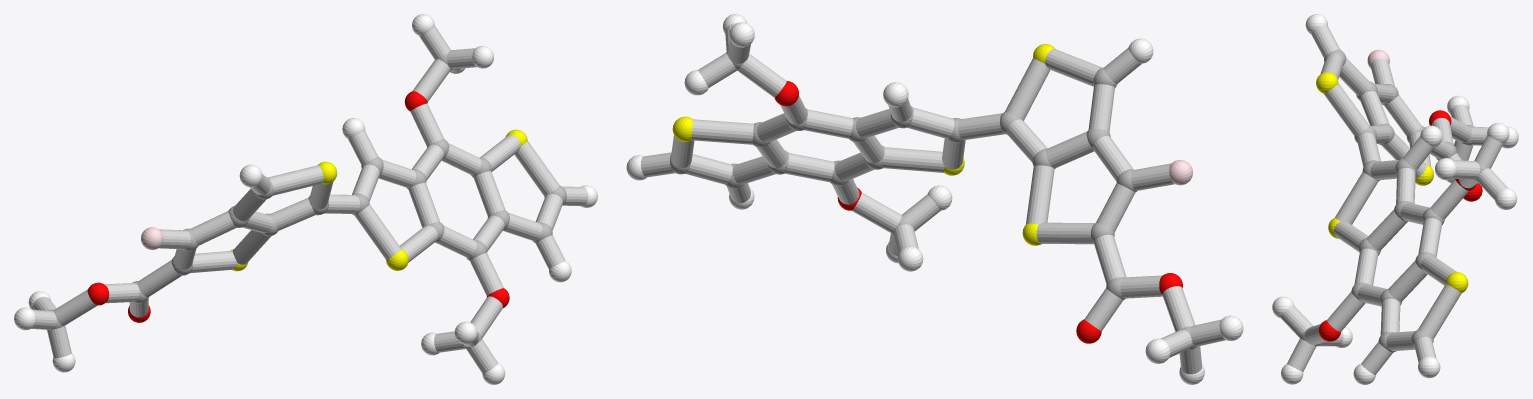
File: Dimethoxy_Benzodithiophene_Phi_0_Theta_280_Methylcarbonyl_3_Fluoro_Thienothiophene.glb
3 renders of one model, left to right at view 1: azimuth 30°, elevation 25°; view 2: azimuth 150°, elevation 25°; view 3: azimuth 270°, elevation 25°, orthographic. The views are drawn at different scales.
Parts seen in each view (by area): view 1: grp15205, grp8689, grp1, grp13395, grp7241; view 2: grp15205, grp8689, grp1, grp13395, grp7241; view 3: grp15205, grp8689, grp1, grp7241, grp13395.
Part boxes in pixels (x1,y1,x2,y2): grp15205: [31, 25, 588, 373]; grp8689: [14, 14, 597, 384]; grp1: [49, 50, 566, 349]; grp13395: [87, 91, 509, 322]; grp7241: [230, 129, 527, 271]; grp15205: [640, 23, 1225, 374]; grp8689: [626, 14, 1243, 384]; grp1: [670, 50, 1196, 349]; grp13395: [774, 81, 1182, 343]; grp7241: [672, 44, 1055, 245]; grp15205: [1280, 25, 1507, 374]; grp8689: [1272, 14, 1518, 384]; grp1: [1300, 49, 1487, 352]; grp7241: [1316, 72, 1468, 292]; grp13395: [1319, 110, 1482, 341].
Bounding box in the file's own units: 17.1 × 8.18 × 6.61.
